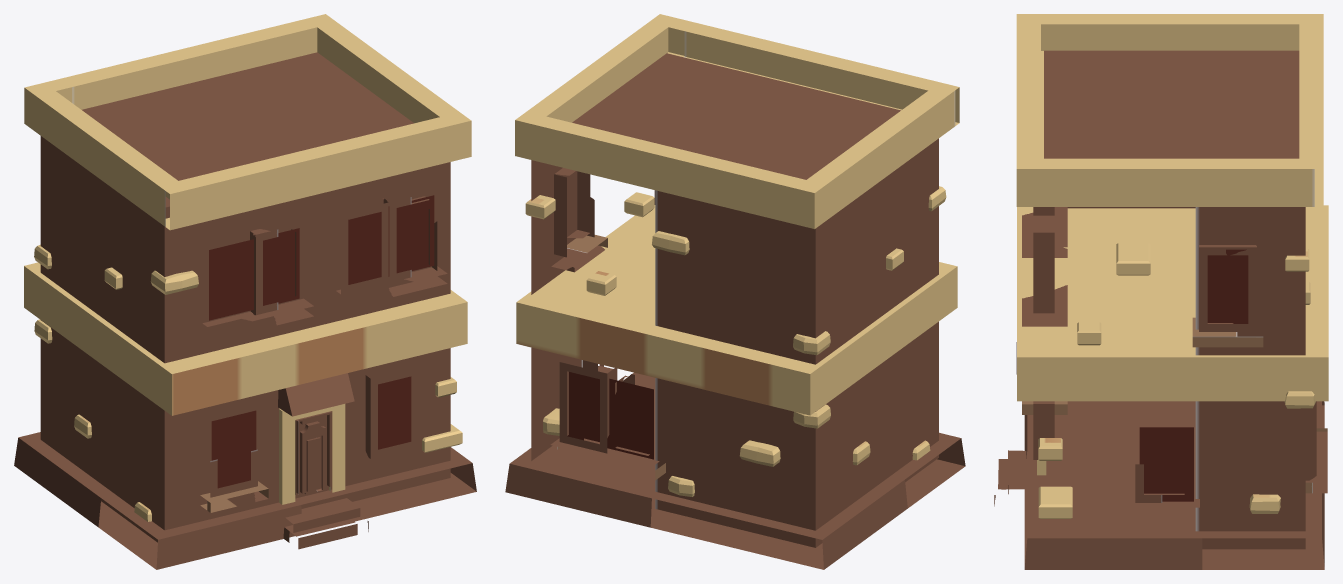
The model's file is Dummy02.fbx.
3 views of the same model, side by side, from view 1: azimuth 30°, elevation 25°; view 2: azimuth 150°, elevation 25°; view 3: azimuth 270°, elevation 25° (orthographic). The views are drawn at different scales.
Visible parts, largest first — view 1: DummyBuilding; view 2: DummyBuilding; view 3: DummyBuilding.
Part boxes in pixels (x1,y1,x2,y2): DummyBuilding: (14, 14, 476, 569); DummyBuilding: (505, 14, 965, 569); DummyBuilding: (994, 14, 1328, 569).
Bounding box in the file's own units: 752 × 843 × 645.
